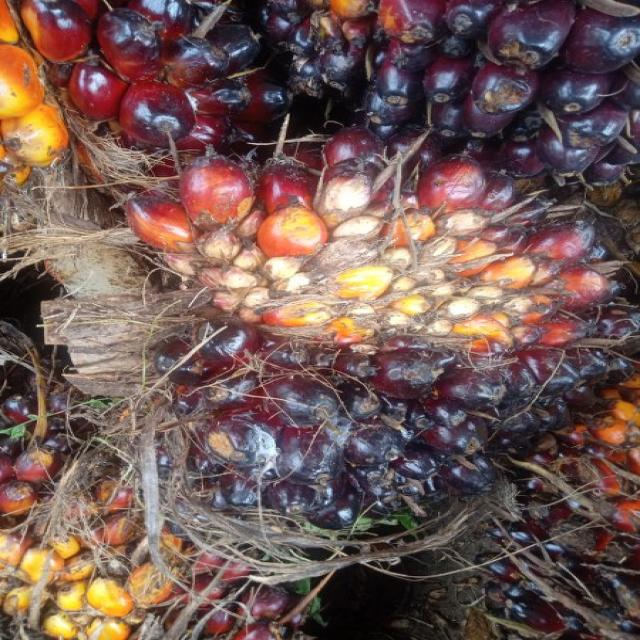fraksi 00: (98, 131, 631, 553)
